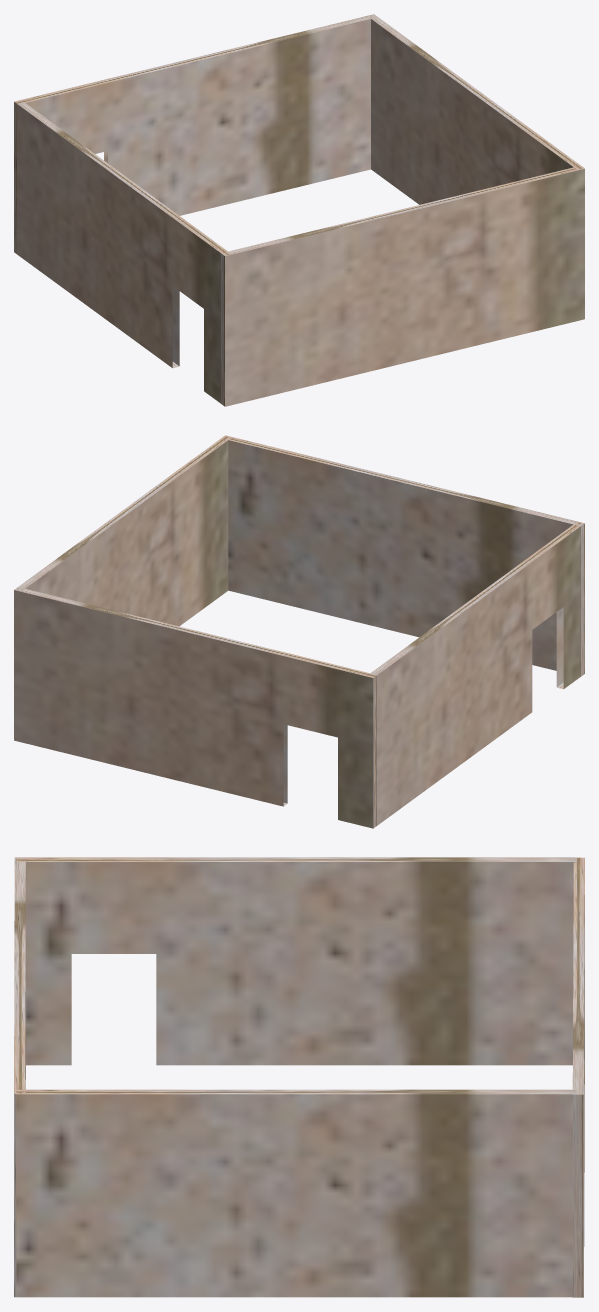
The model's file is pareti_teatro_di_posa.fbx.
The picture shows the model from 3 angles, top to bottom: view 1: azimuth 30°, elevation 25°; view 2: azimuth 150°, elevation 25°; view 3: azimuth 270°, elevation 25°; orthographic projection. The views are drawn at different scales.
Visible parts, largest first — view 1: Cube.003, Cube.001, Cube, Cube.002; view 2: Cube.001, Cube.003, Cube, Cube.002; view 3: Cube.002, Cube, Cube.001, Cube.003.
Boxes of the visible parts, left/top/right/bottom form: Cube.003: left=221, top=166, right=584, bottom=406; Cube.001: left=14, top=14, right=375, bottom=253; Cube: left=17, top=102, right=230, bottom=403; Cube.002: left=369, top=16, right=583, bottom=204; Cube.001: left=14, top=588, right=376, bottom=828; Cube.003: left=223, top=435, right=584, bottom=676; Cube: left=369, top=522, right=583, bottom=825; Cube.002: left=17, top=436, right=230, bottom=626; Cube.002: left=16, top=1089, right=576, bottom=1297; Cube: left=16, top=857, right=576, bottom=1065; Cube.001: left=572, top=857, right=584, bottom=1297; Cube.003: left=14, top=857, right=25, bottom=1297.
Bounding box in the file's own units: 1001 × 400 × 1019.
